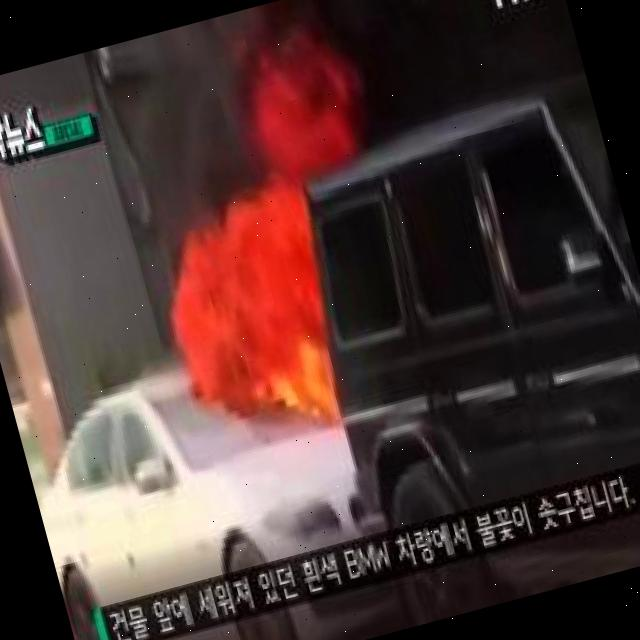fire: (132, 100, 425, 436)
